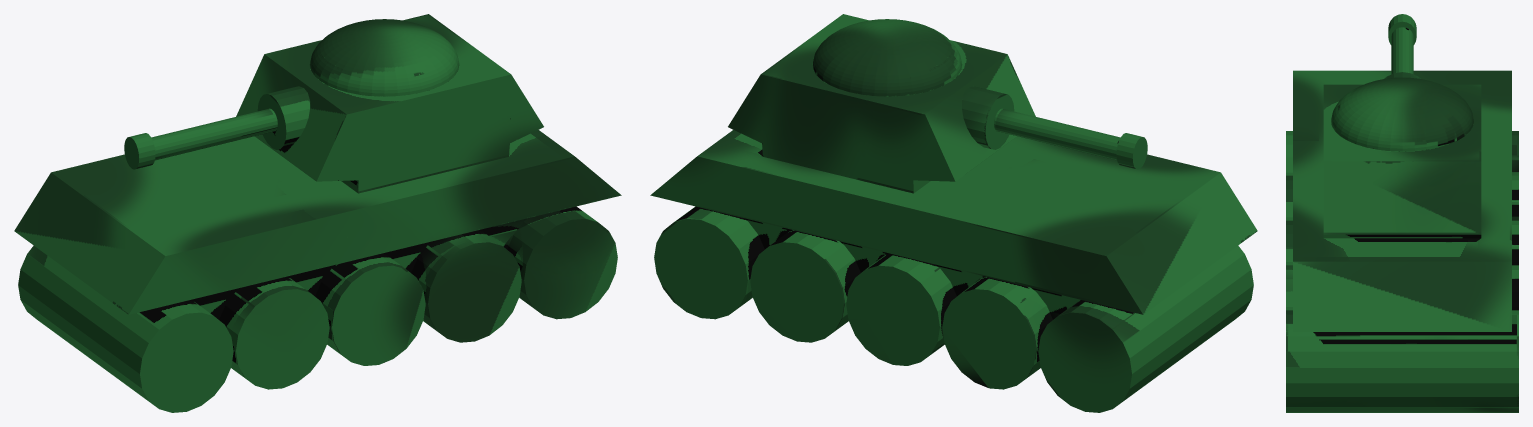
File: czolg.fbx
3 views of the same model, side by side, from view 1: azimuth 30°, elevation 25°; view 2: azimuth 150°, elevation 25°; view 3: azimuth 270°, elevation 25° (orthographic). The views are drawn at different scales.
Visible parts, largest first — view 1: obj_0; view 2: obj_0; view 3: obj_0.
Part boxes in pixels (x1,y1,x2,y2): obj_0: [14, 14, 621, 412]; obj_0: [650, 14, 1257, 412]; obj_0: [1286, 14, 1518, 412].
Bounding box in the file's own units: 6676 × 3525 × 2855.
Materials: 1 (1 with a texture image).
